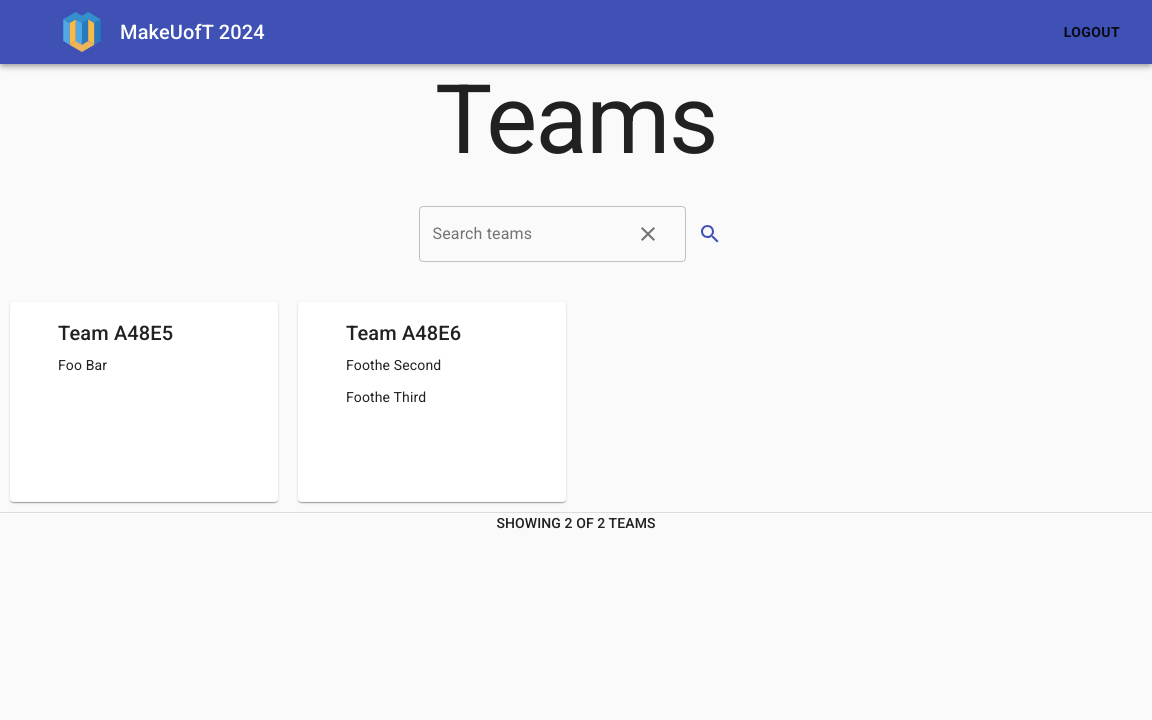
Test case: Teams Page › Searching for teams returns no teams
Type "12345" into the field labelled "Search teams".
click(517, 234); type("12345")  # box [418,206,616,262]
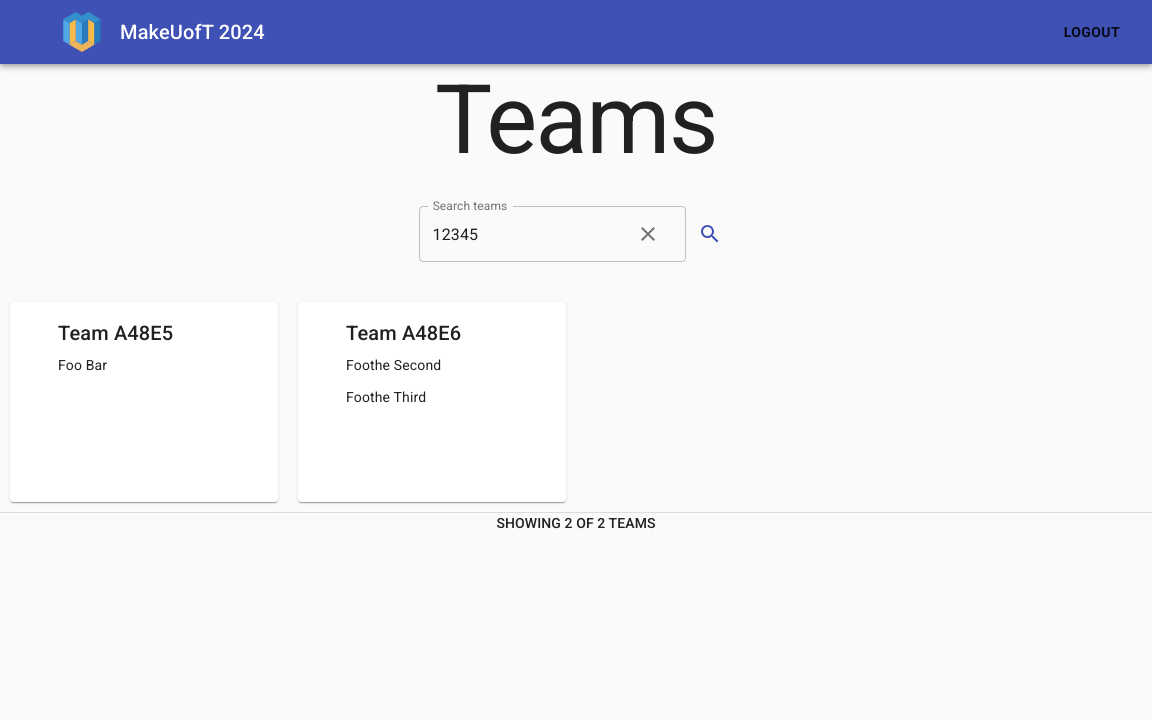
Submit the form from the field labelled "Search teams", box [418,206,616,262]
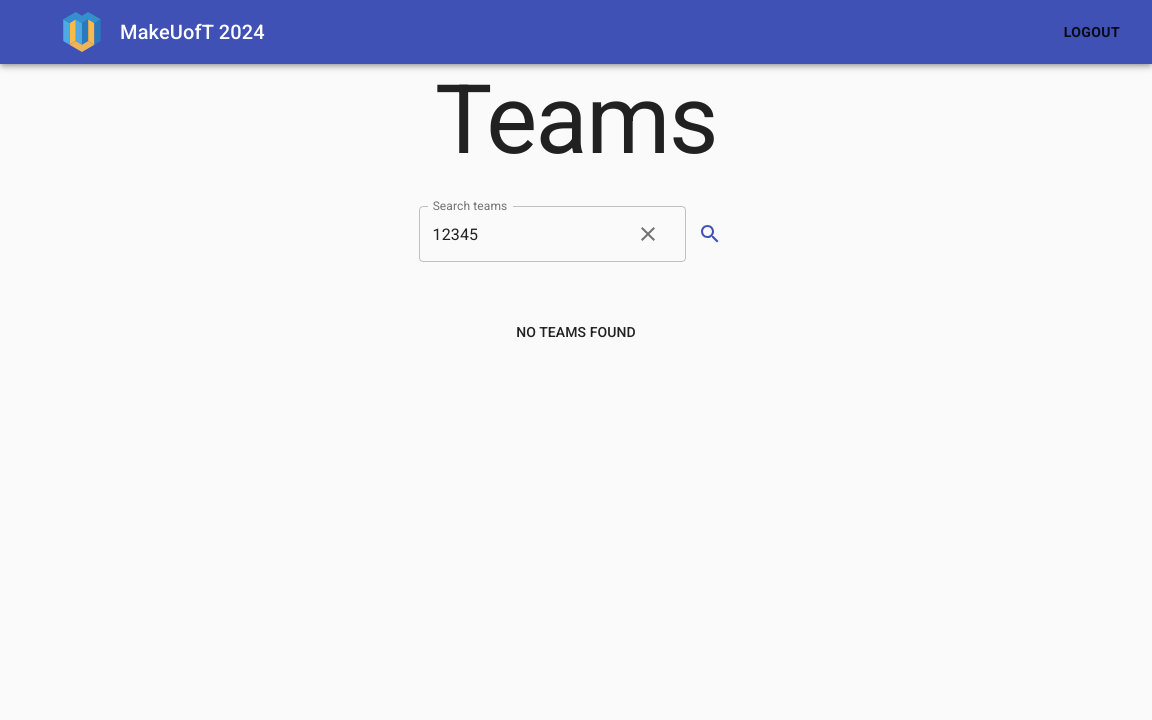
Expected: the text "NO TEAMS FOUND" is shown, [516,324,636,340]
